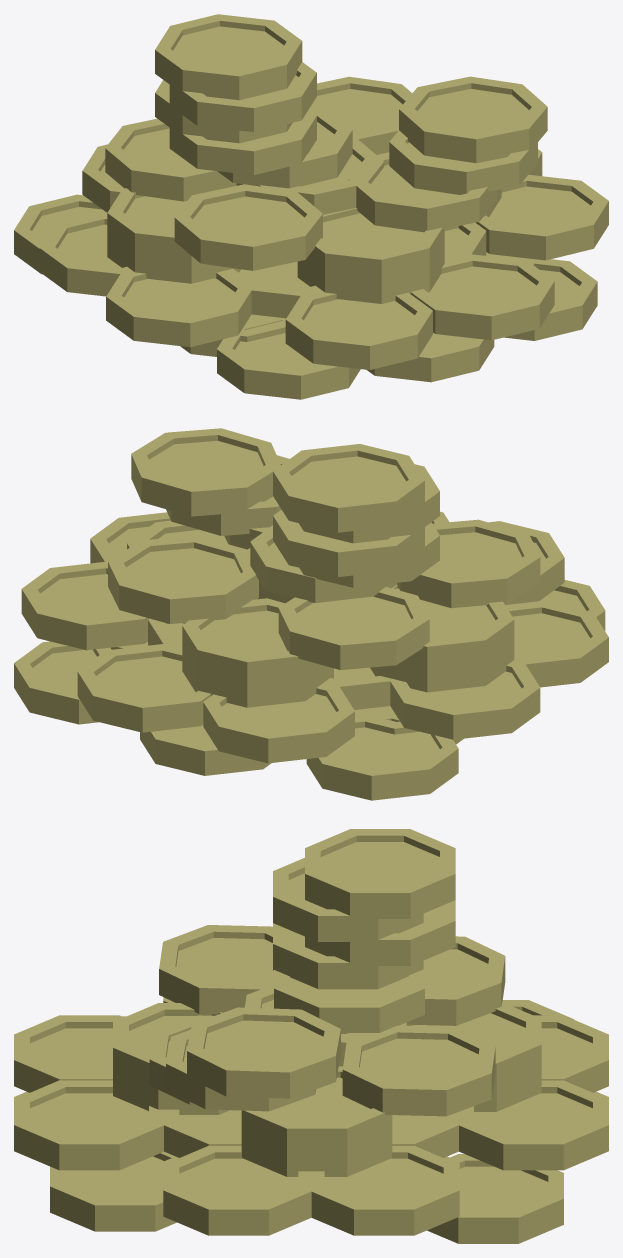
The model's file is Gold_on_top_of_Bag.fbx.
3 views of the same model, one above another, from view 1: azimuth 30°, elevation 25°; view 2: azimuth 150°, elevation 25°; view 3: azimuth 270°, elevation 25° (orthographic). The views are drawn at different scales.
Visible parts, largest first — view 1: Gold_on_top_of_Bag; view 2: Gold_on_top_of_Bag; view 3: Gold_on_top_of_Bag.
Part boxes in pixels (x1,y1,x2,y2): Gold_on_top_of_Bag: (14,14,608,399); Gold_on_top_of_Bag: (14,428,608,800); Gold_on_top_of_Bag: (14,829,608,1243).
Size of the model in its own units: 39.92 by 17.89 by 39.61.
